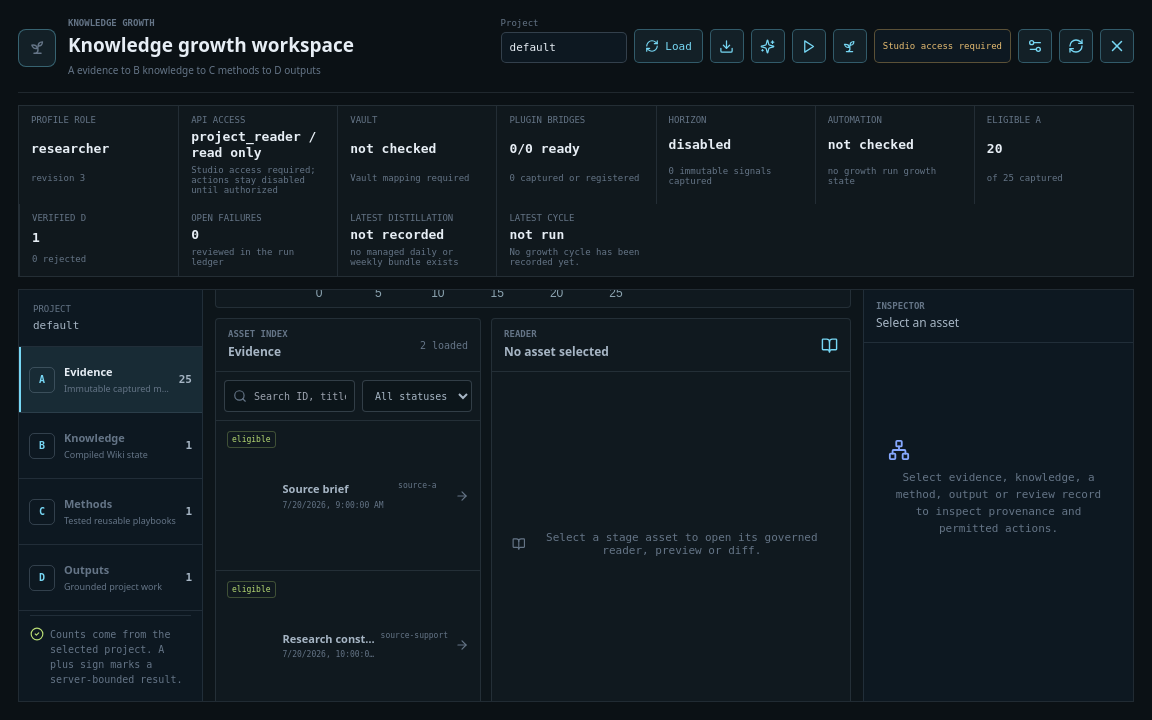
Test: GrowthWorkspace › does not allow a read-only project role to distill a source
(page scrolled)
Click the option "eligible Source brief source-a 7/20/2026, 9:00:00 AM". click: (348, 496)
box: [216,421,480,571]
(page scrolled)
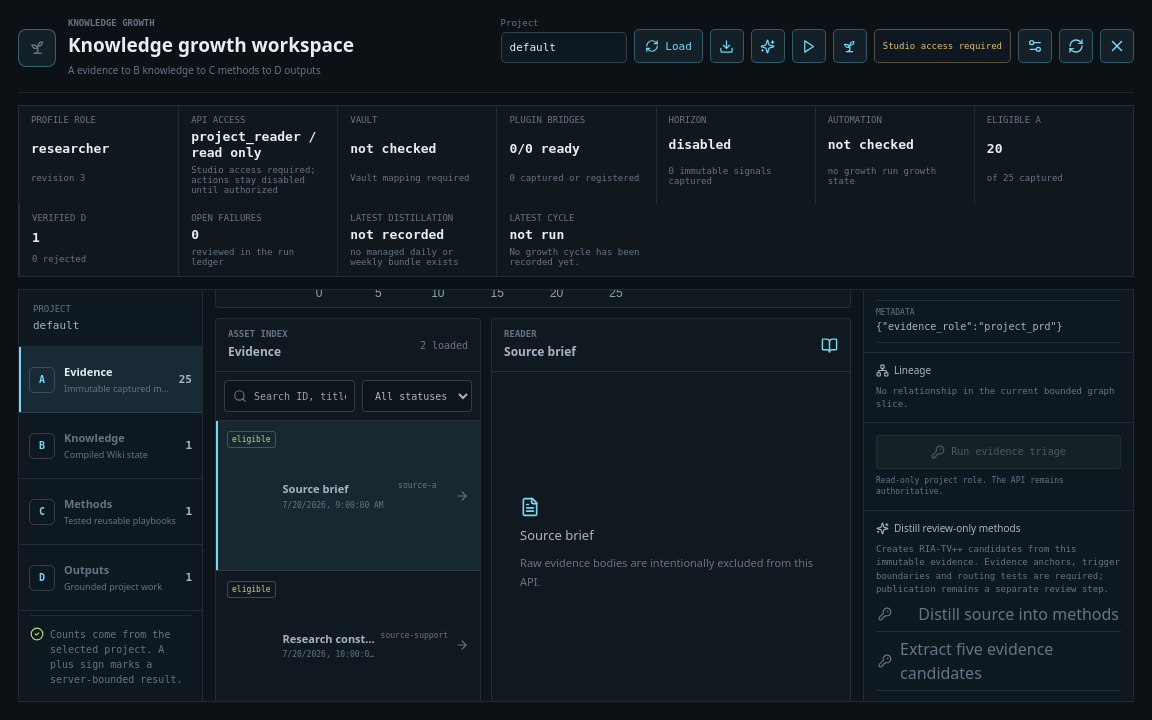
Check: the button "Distill source into methods" is disabled, box [876,597,1121,632]
